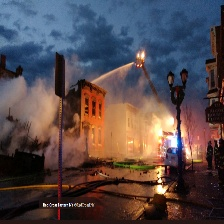smoke: (2, 67, 92, 170)
